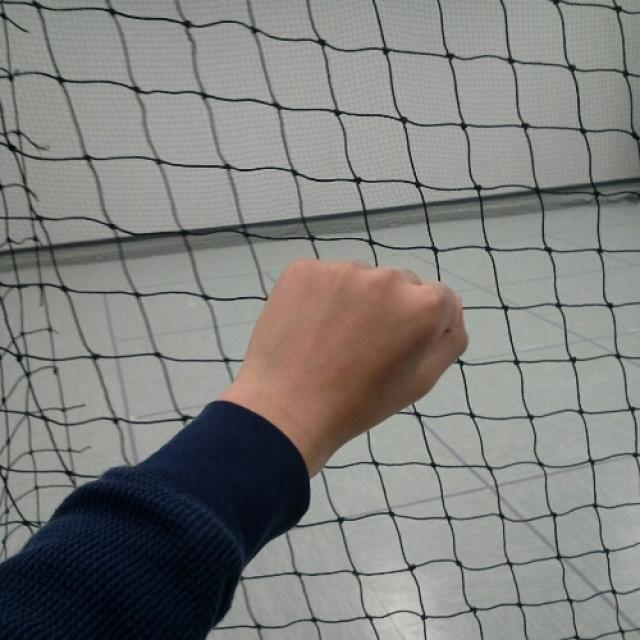rock: (248, 258, 468, 428)
